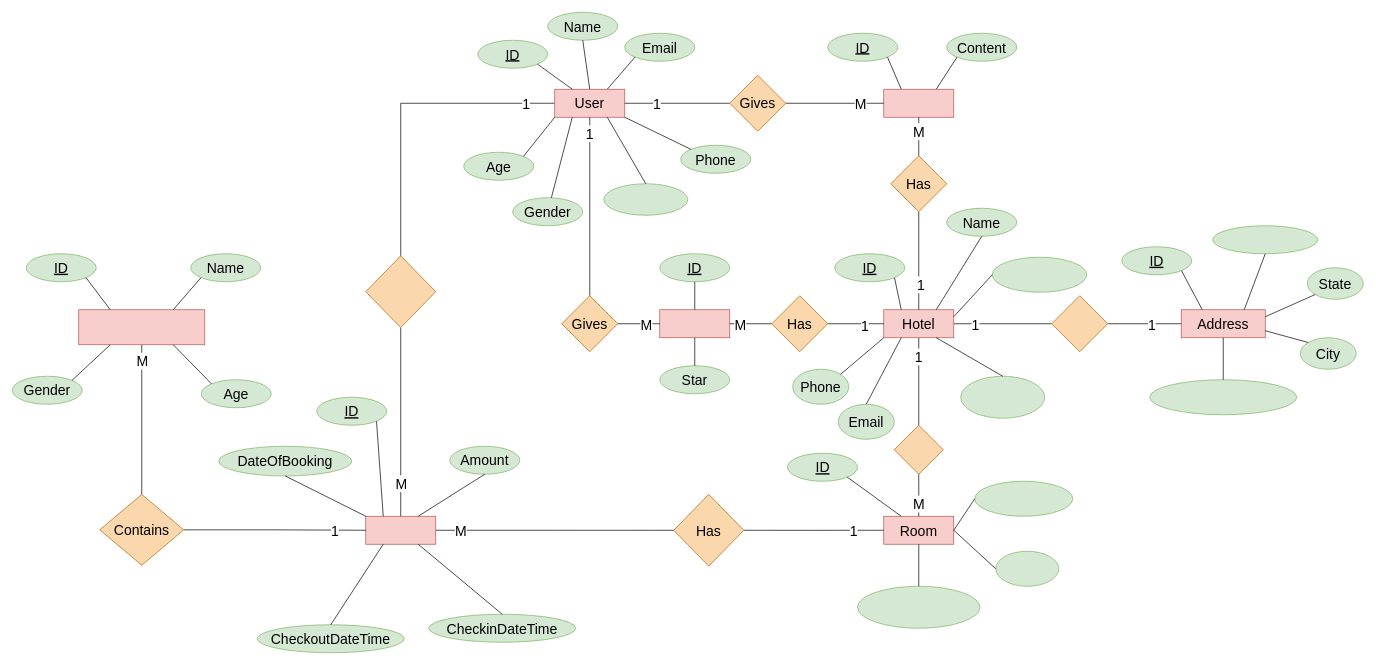
Image size: 1376x665. Some labels were removed from this diagram. The centre of each missing label's shape, as x and y in pixels:
Booking: the point at 400,530
BookingGuests: the point at 141,327
BuildingNo: the point at 1265,239
Description: the point at 1002,397
In: the point at 918,449
IsApproved: the point at 1039,274
IsAt: the point at 1079,323
IsAvailable: the point at 1023,498
IsBlocked: the point at 645,199
Makes: the point at 400,291
PricePerNight: the point at 918,607
Rating: the point at 694,323
Review: the point at 918,103
Size: the point at 1027,568
StreetNoAndName: the point at 1223,397
